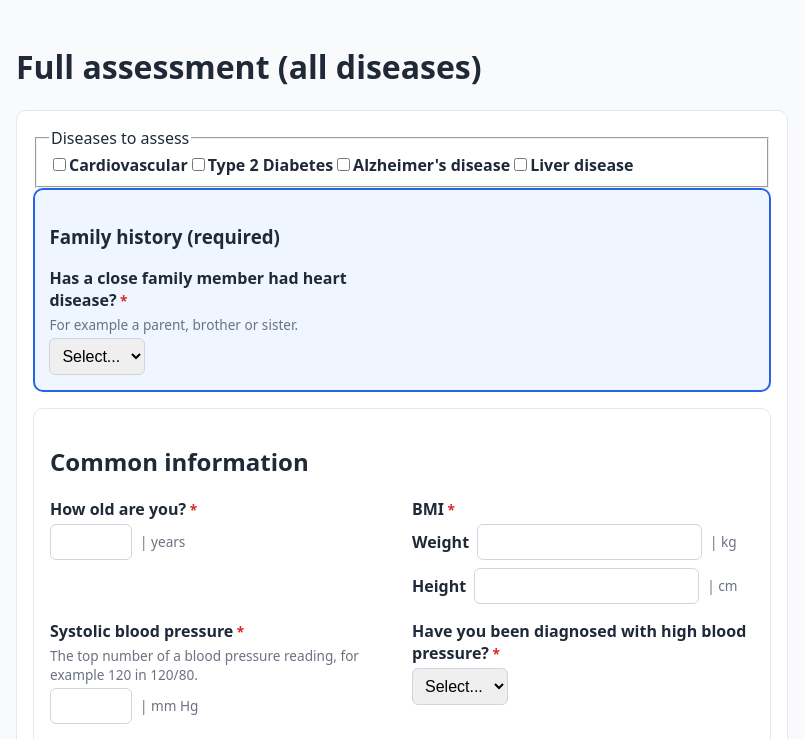
Test: Full assessment › shows shared labels and the widest valid limits of the selected diseases
Click the checkbox labelled "Cardiovascular" at (60, 165), box [53,158,66,172]
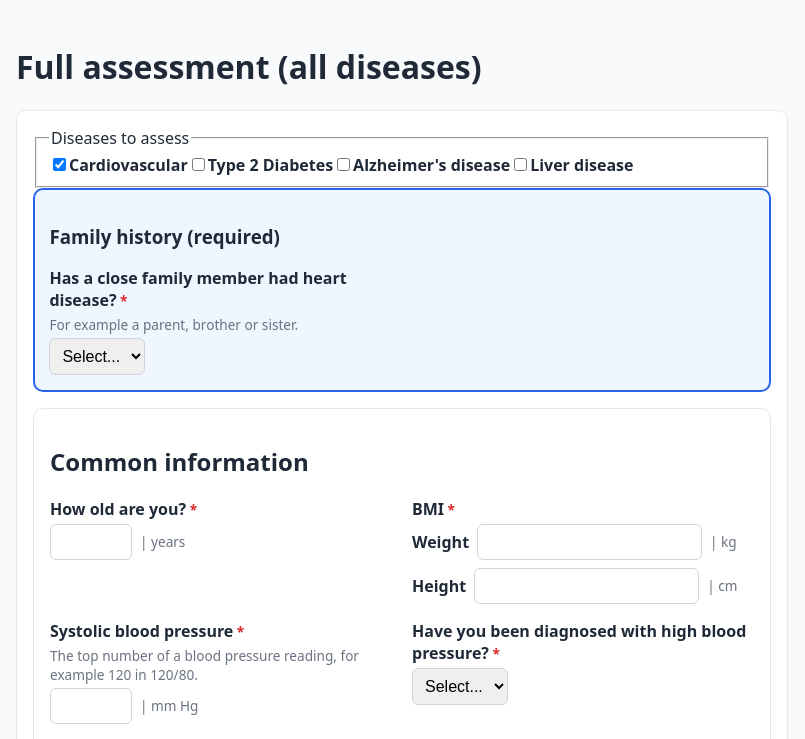
Click the checkbox labelled "Alzheimer's disease" at (344, 165), box [337,158,350,172]
(page scrolled)
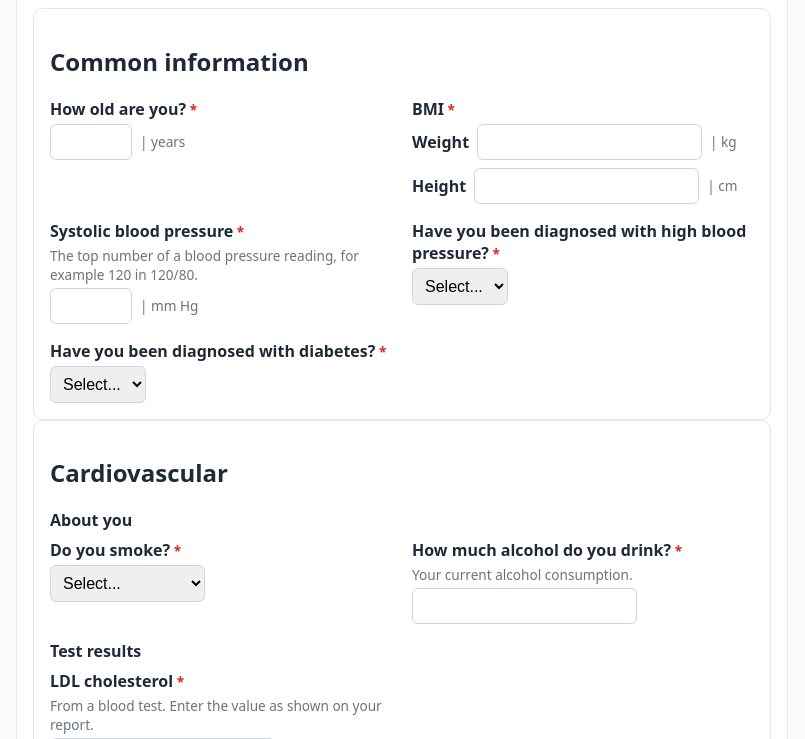
Expected: the text "BMI" is shown, [412,98,444,120]
Now the number field labelled "How old are you?" has attribute max="110", box [50,124,132,160]
